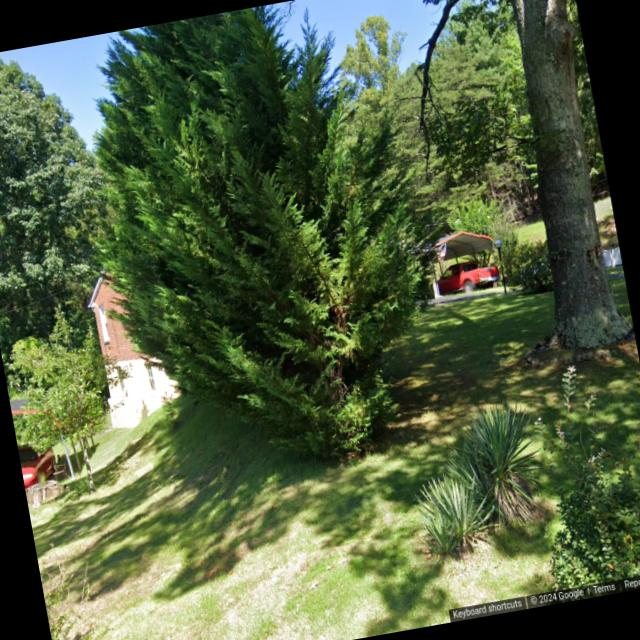House: (80, 250, 186, 433)
